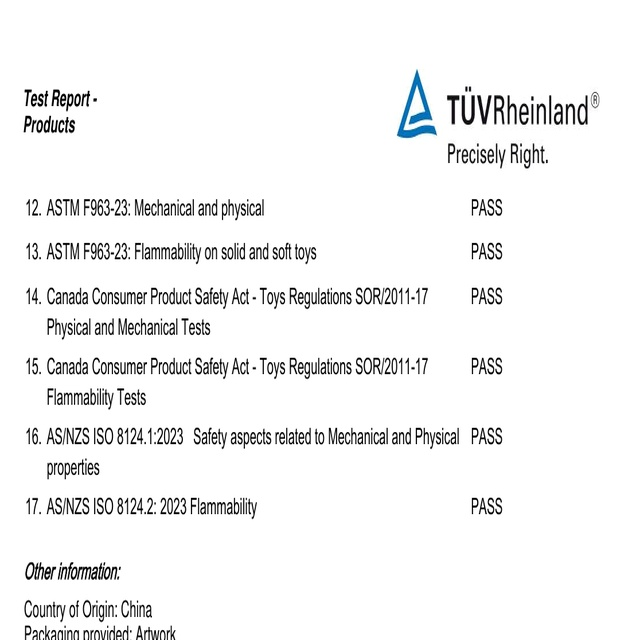tuv_rheinland: (396, 68, 604, 143)
